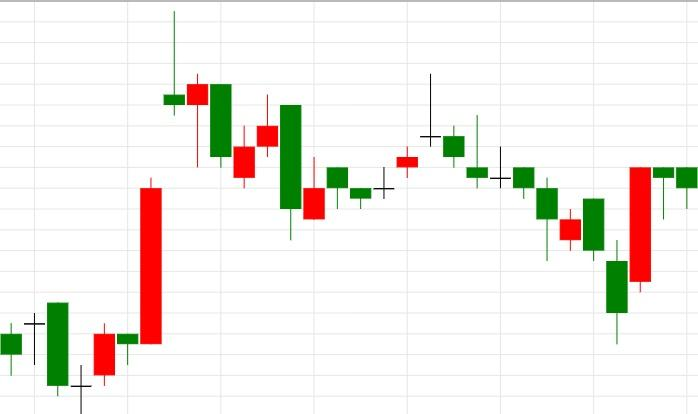hanging_man_fall: (94, 11, 208, 387)
